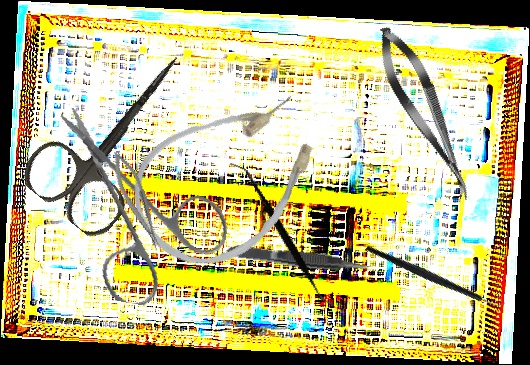Cannula: (110, 66, 349, 292)
Chopper: (363, 204, 509, 347)
Iris Scissors: (30, 106, 244, 318), (14, 25, 221, 244)
Micro Scissor: (366, 19, 485, 208)
Needle Holder: (107, 147, 166, 255)
Spatula Surgical: (193, 161, 372, 309)
Tissue Forceps: (225, 239, 374, 278)
